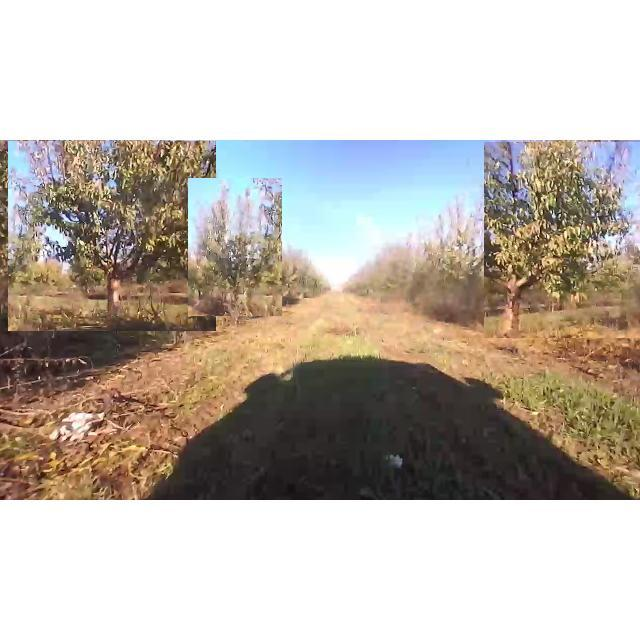direk: (8, 141, 216, 331), (484, 142, 640, 338), (188, 178, 282, 316), (430, 186, 506, 330)
